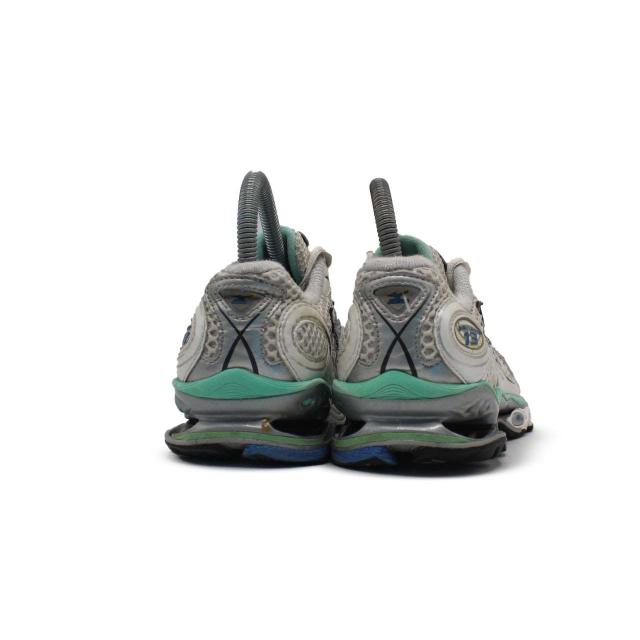heel: (342, 236, 489, 383), (174, 246, 324, 374)
midsole: (327, 371, 507, 462), (171, 370, 330, 461)
